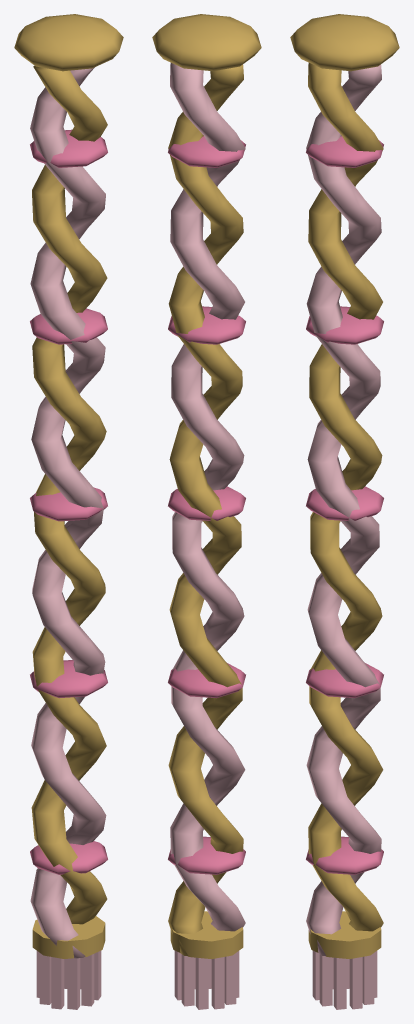
File: curtain_rope.glb
3 views of the same model, side by side, from view 1: azimuth 30°, elevation 25°; view 2: azimuth 150°, elevation 25°; view 3: azimuth 330°, elevation 25° (orthographic).
Visible parts, largest first — view 1: curtain_rope; view 2: curtain_rope; view 3: curtain_rope.
Boxes of the visible parts, x1,y1,x2,y2 form: curtain_rope: [14, 14, 123, 1009]; curtain_rope: [152, 14, 261, 1009]; curtain_rope: [290, 14, 399, 1009].
Size of what is drawn, in the model's own units: 0.16 by 1.6 by 0.16.
